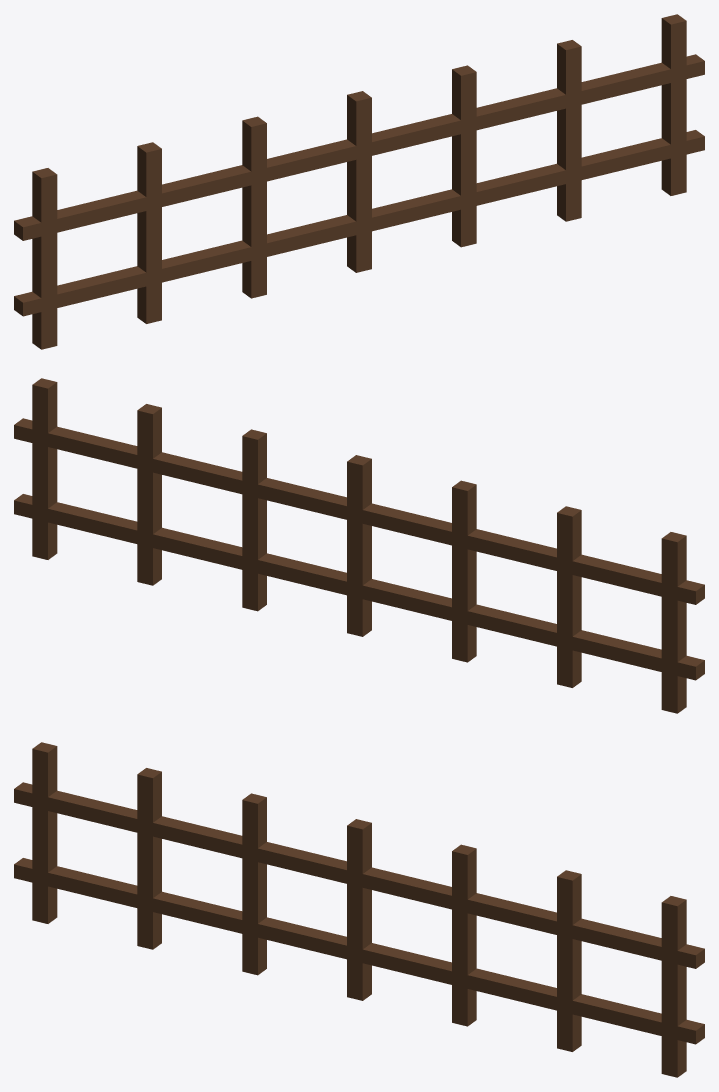
File: fence.glb
3 views of the same model, one above another, from view 1: azimuth 30°, elevation 25°; view 2: azimuth 150°, elevation 25°; view 3: azimuth 330°, elevation 25° (orthographic).
Visible parts, largest first — view 1: Rail0.35, Rail0.9, Post-2.4, Post2.4, Post-1.6, Post0.0, Post0.7999999999999998, Post-0.8, Post1.5999999999999996; view 2: Rail0.35, Rail0.9, Post-2.4, Post2.4, Post0.0, Post1.5999999999999996, Post-1.6, Post-0.8, Post0.7999999999999998; view 3: Rail0.35, Rail0.9, Post2.4, Post-2.4, Post-1.6, Post0.0, Post1.5999999999999996, Post0.7999999999999998, Post-0.8.
Boxes of the visible parts, x1,y1,x2,y2 form: Rail0.35: (14, 130, 704, 316); Rail0.9: (14, 54, 704, 240); Post-2.4: (32, 168, 57, 349); Post2.4: (661, 14, 686, 195); Post-1.6: (137, 142, 161, 323); Post0.0: (347, 91, 371, 272); Post0.7999999999999998: (452, 65, 476, 247); Post-0.8: (242, 116, 266, 298); Post1.5999999999999996: (557, 40, 581, 221); Rail0.35: (14, 494, 704, 680); Rail0.9: (14, 418, 704, 604); Post-2.4: (661, 532, 686, 713); Post2.4: (32, 378, 57, 559); Post0.0: (347, 455, 371, 636); Post1.5999999999999996: (137, 404, 161, 585); Post-1.6: (557, 506, 581, 687); Post-0.8: (452, 480, 476, 662); Post0.7999999999999998: (242, 429, 266, 611); Rail0.35: (14, 858, 704, 1044); Rail0.9: (14, 782, 704, 968); Post2.4: (661, 896, 686, 1077); Post-2.4: (32, 742, 57, 923); Post-1.6: (137, 768, 161, 949); Post0.0: (347, 819, 371, 1000); Post1.5999999999999996: (557, 870, 581, 1051); Post0.7999999999999998: (452, 844, 476, 1026); Post-0.8: (242, 793, 266, 975).
Size of the model in its own units: 5.2 by 1.25 by 0.12.
